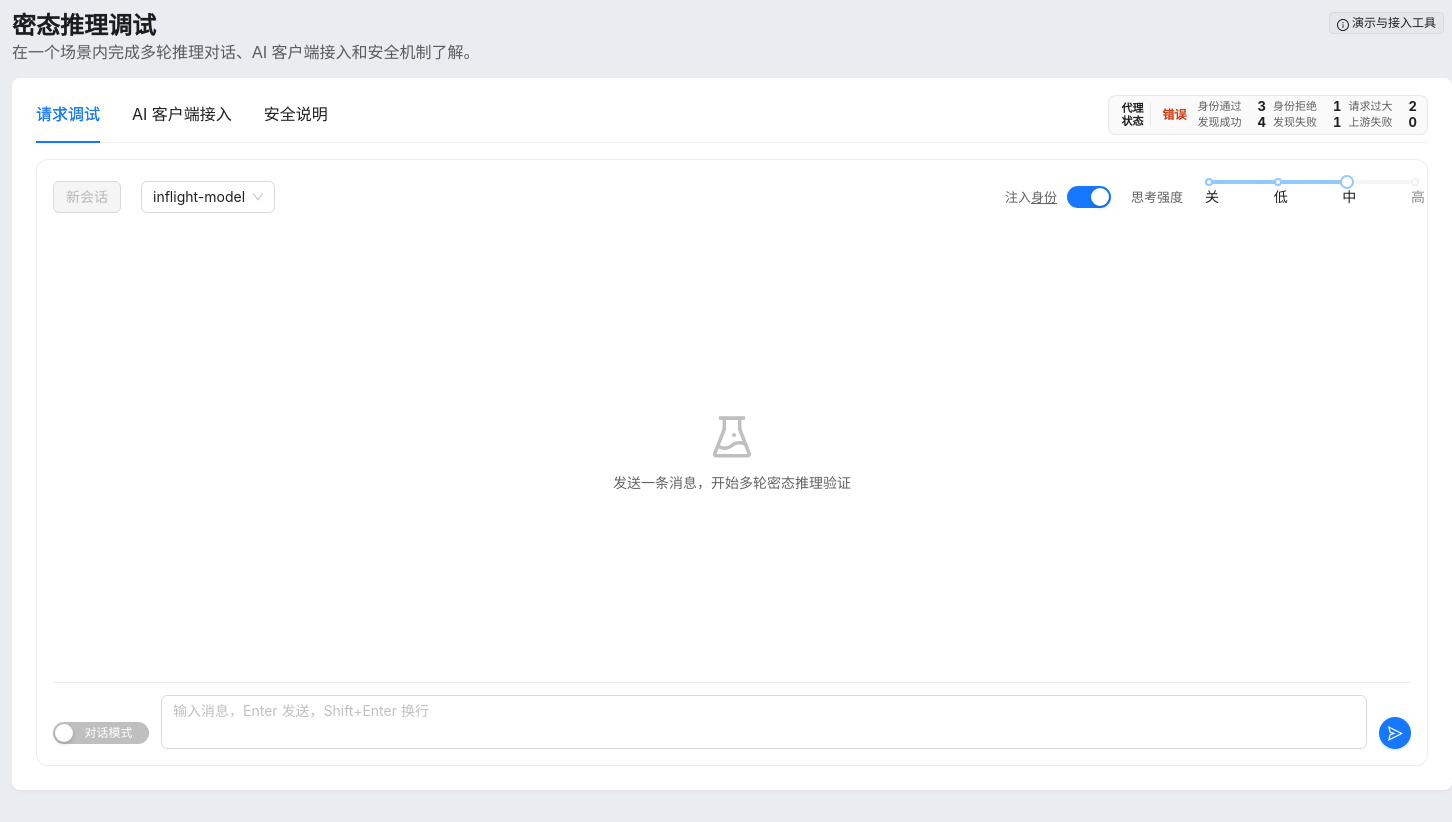
Test case: InferenceView › disables 新会话 while a request is in flight
The width and height of the screenshot is (1452, 822).
Type "进行中" into the text box with placeholder "输入消息，Enter 发送，Shift+Enter 换行". click: (764, 722)
box: [161,695,1367,749]
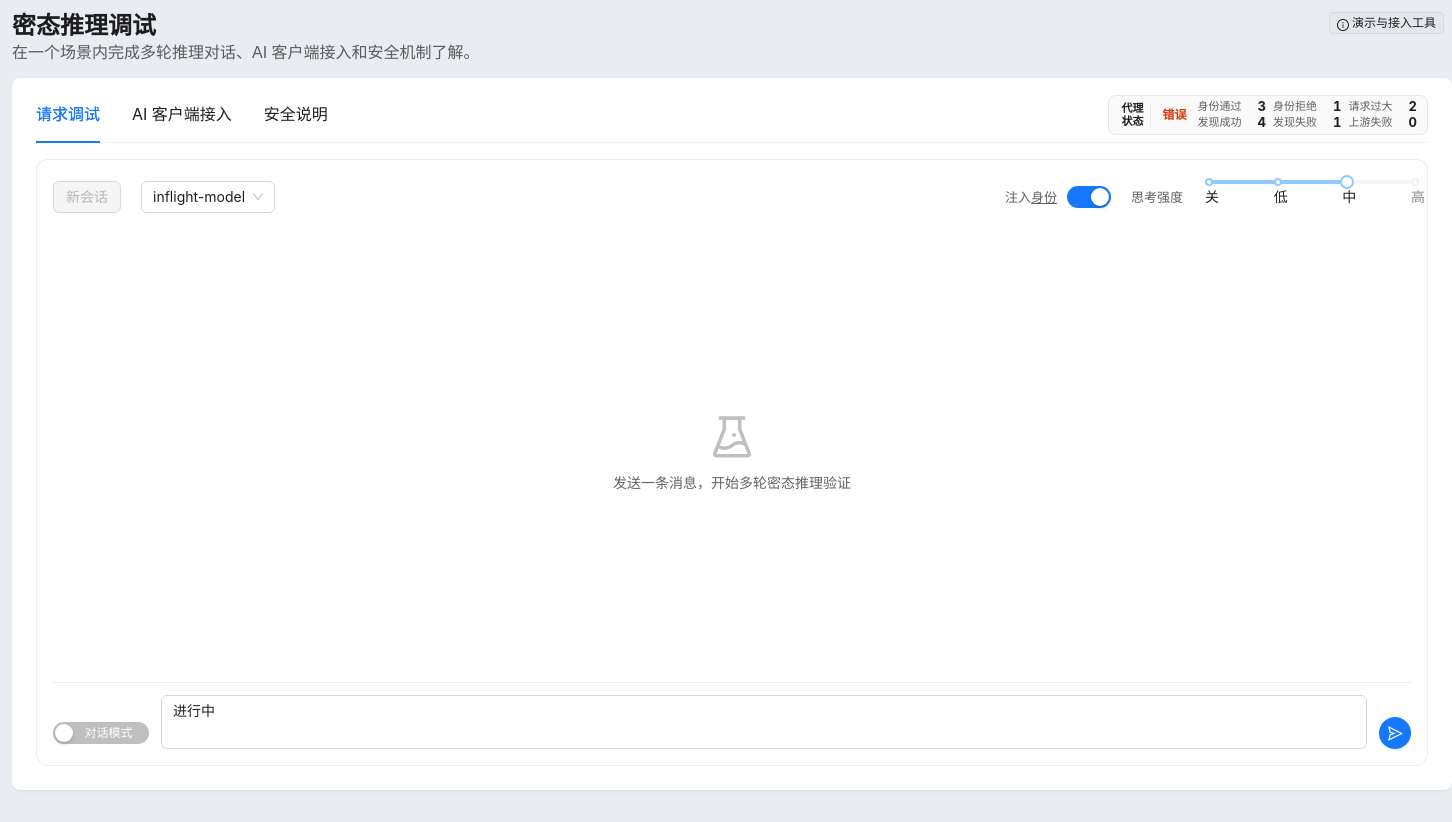
Click the button with class "send-button". click: (1395, 733)
box: [1379,717,1411,749]
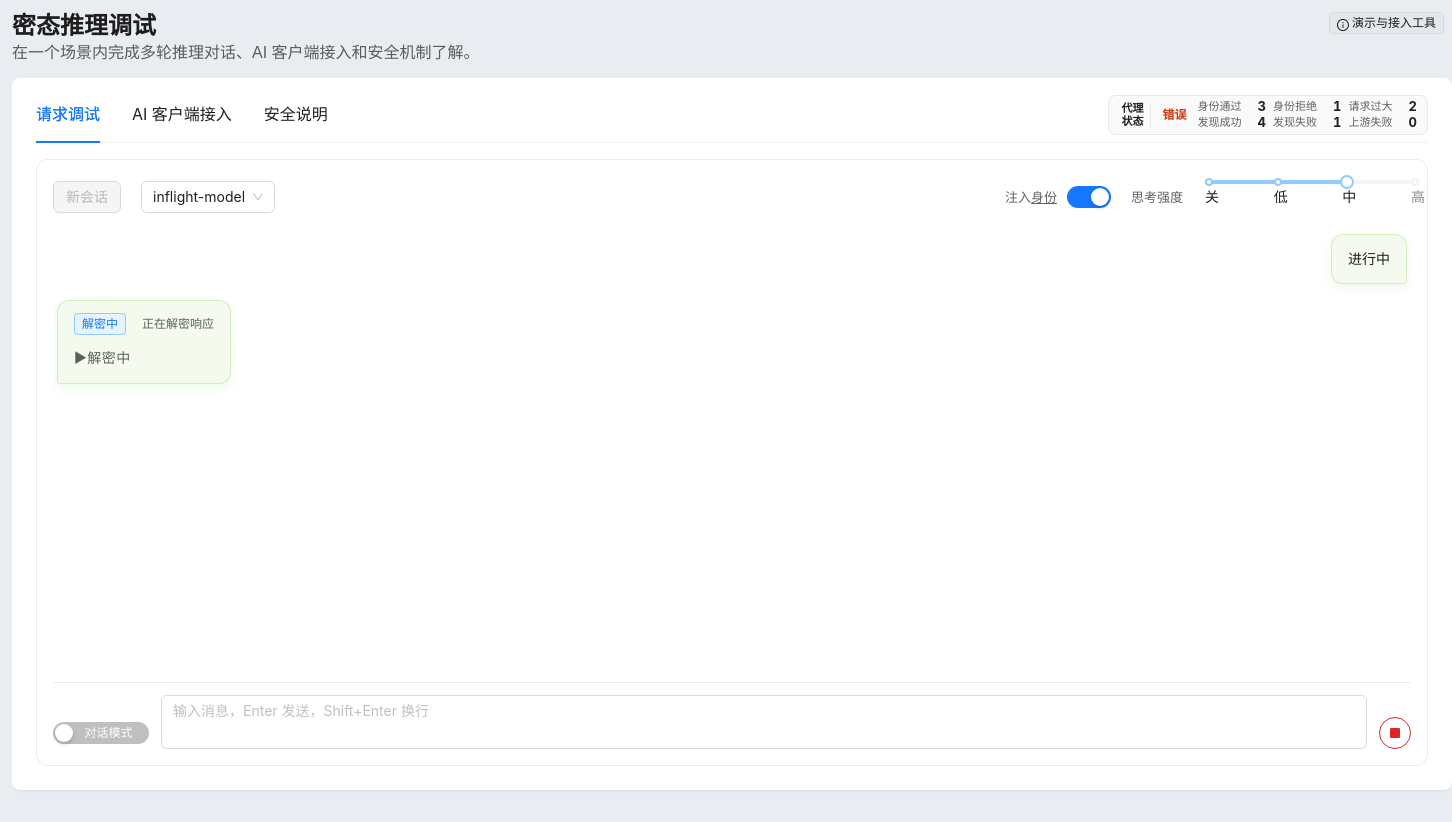
Click the button with class "new-session-button". click: (87, 197)
box: [53,181,121,213]
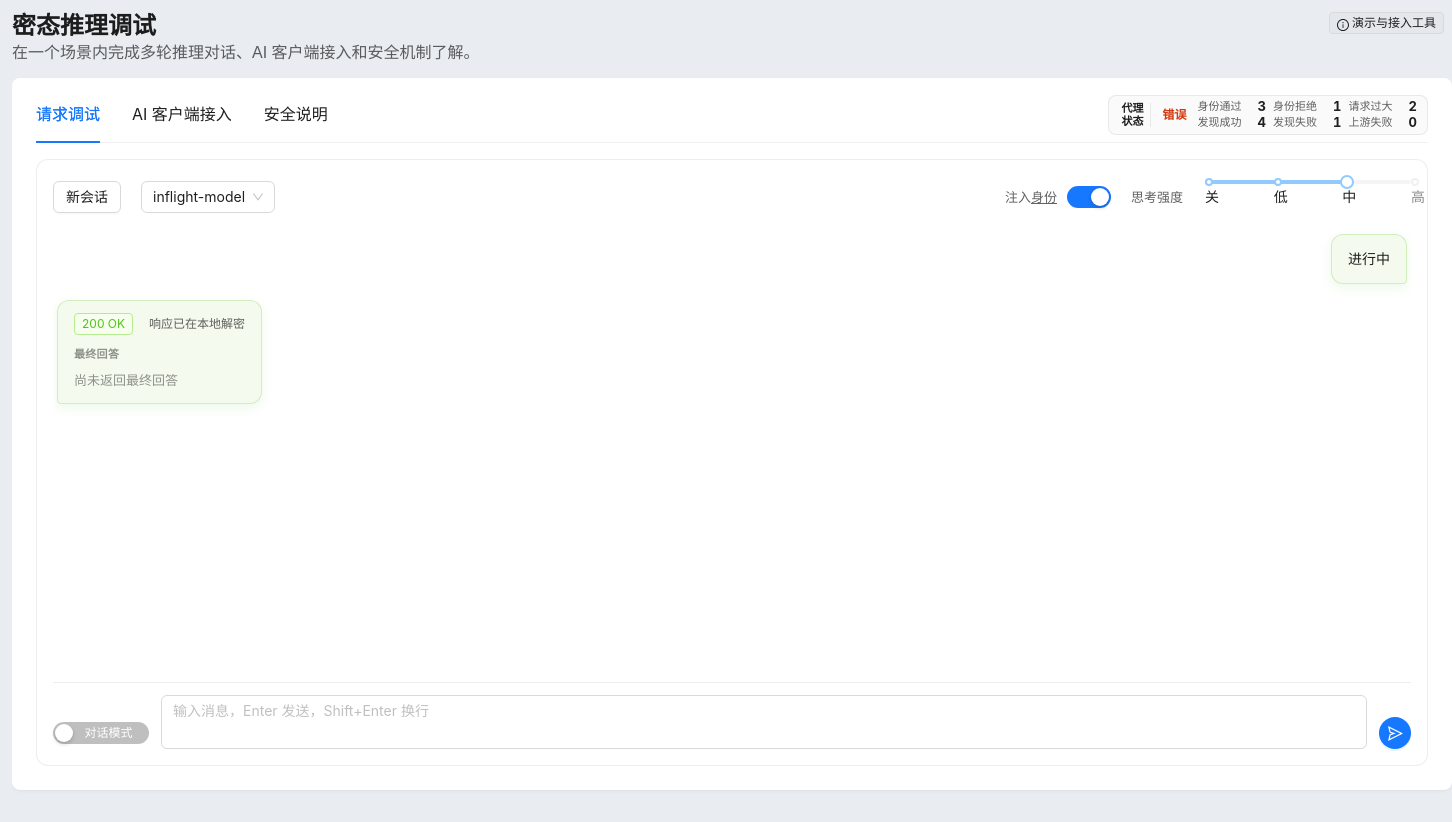
Check: the button with class "new-session-button" is enabled, box [53,181,121,213]
